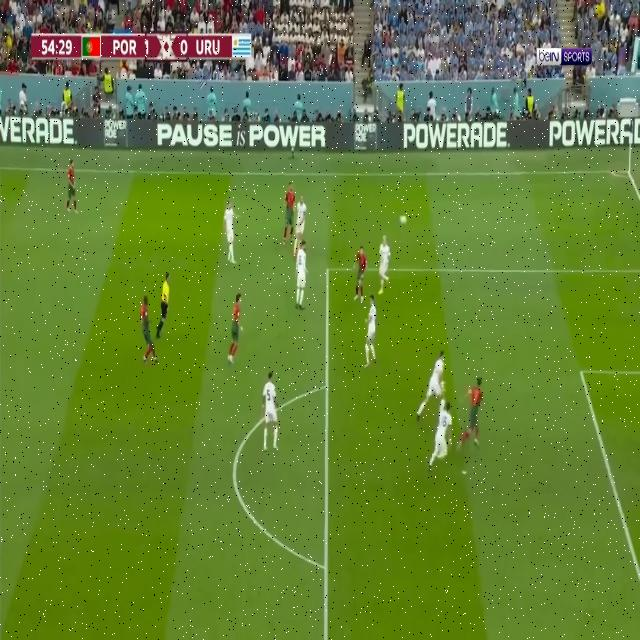Ball: (399, 215, 406, 224)
Referee: (154, 268, 176, 356)
TEAM 1: (460, 377, 486, 450), (224, 293, 248, 369), (138, 294, 160, 366), (353, 243, 374, 301), (279, 181, 297, 245), (64, 160, 80, 216)
TEAM 2: (429, 387, 460, 470), (421, 347, 448, 428), (258, 369, 282, 452), (364, 294, 381, 372), (293, 238, 309, 309), (223, 197, 239, 266), (377, 234, 394, 295), (292, 194, 306, 243)
